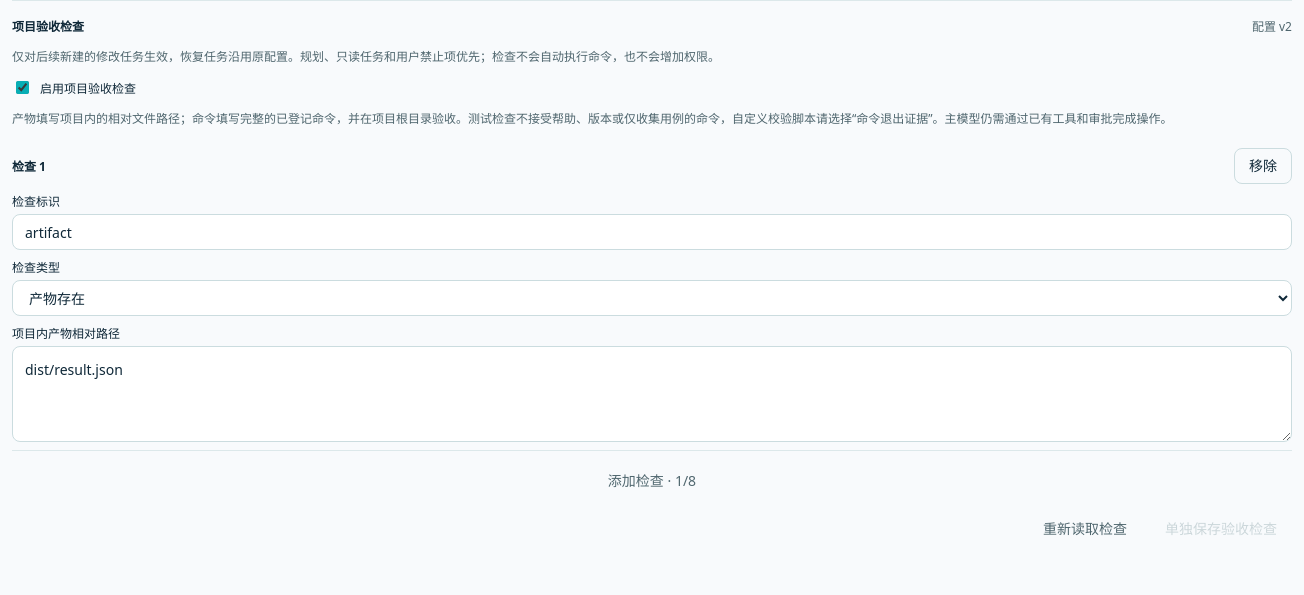
Test case: 项目验收检查 › 配置版本冲突保留草稿，必须显式重读后再编辑
The width and height of the screenshot is (1304, 595).
Step 1. Replace the text in the text box with test id "observer-check-scope" with "draft.json" → (652,394), box x1=12 y1=346 x2=1292 y2=442
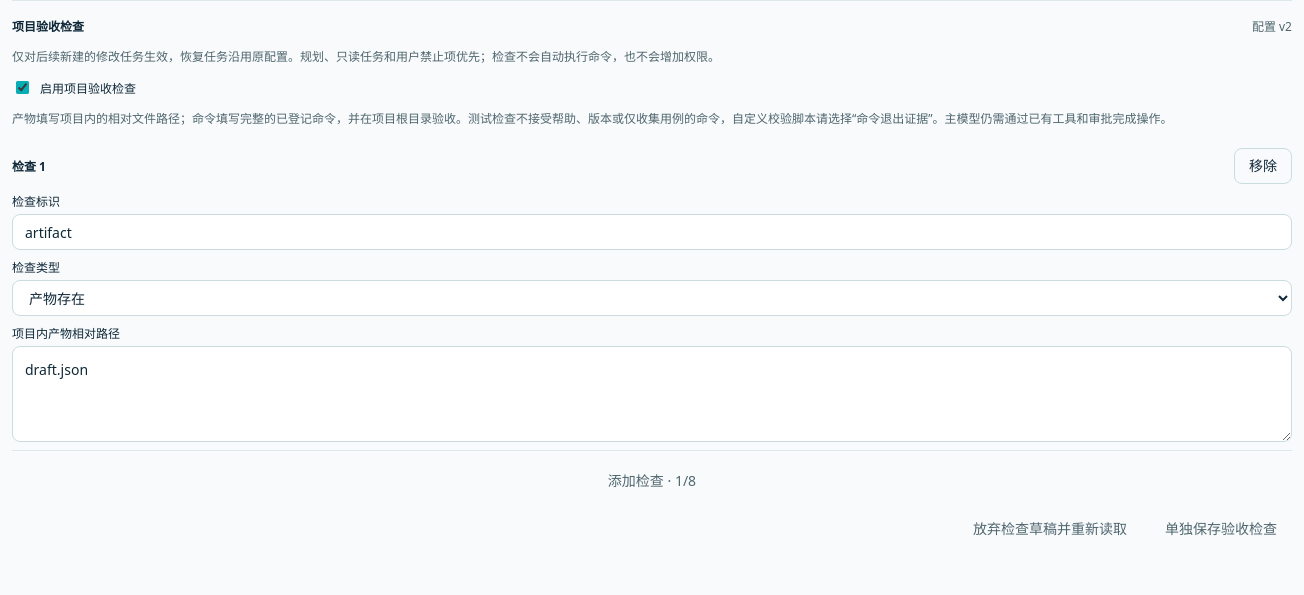
Step 2. Click the button with test id "observer-config-save" → (1221,529), box x1=1150 y1=511 x2=1292 y2=547
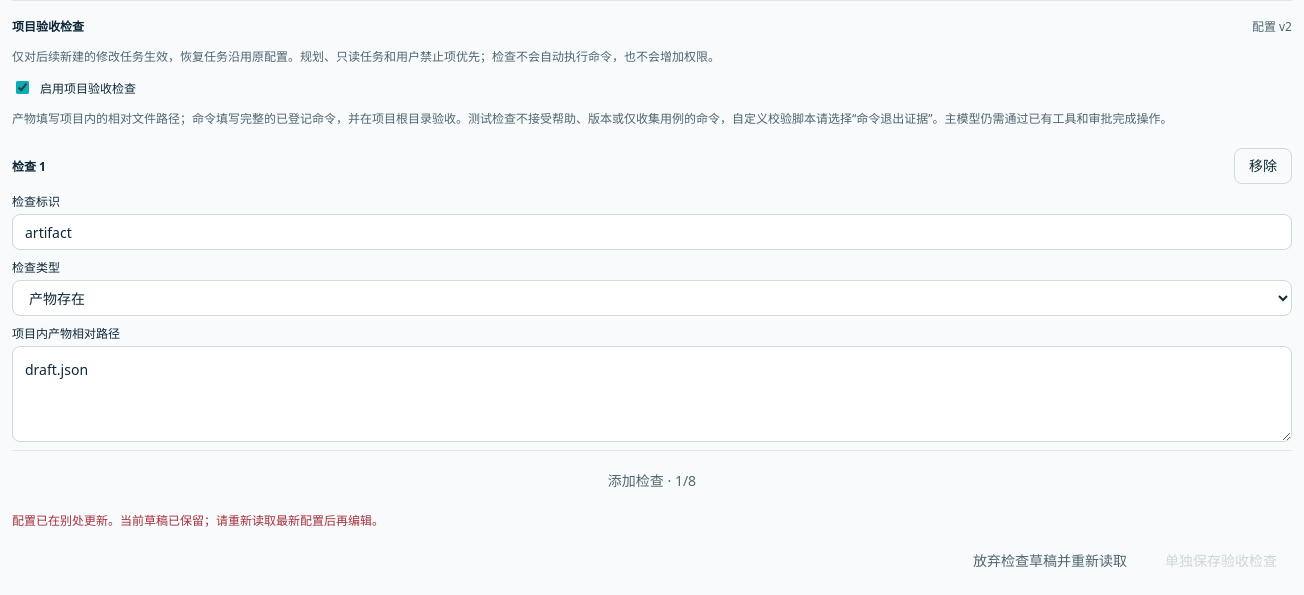
Now the text "草稿已保留" is shown, box x1=12 y1=512 x2=384 y2=529
Now the button with test id "observer-config-save" is disabled, box x1=1150 y1=543 x2=1292 y2=579
Step 3. Click the button with test id "observer-config-reload" → (1050,561), box x1=958 y1=543 x2=1142 y2=579
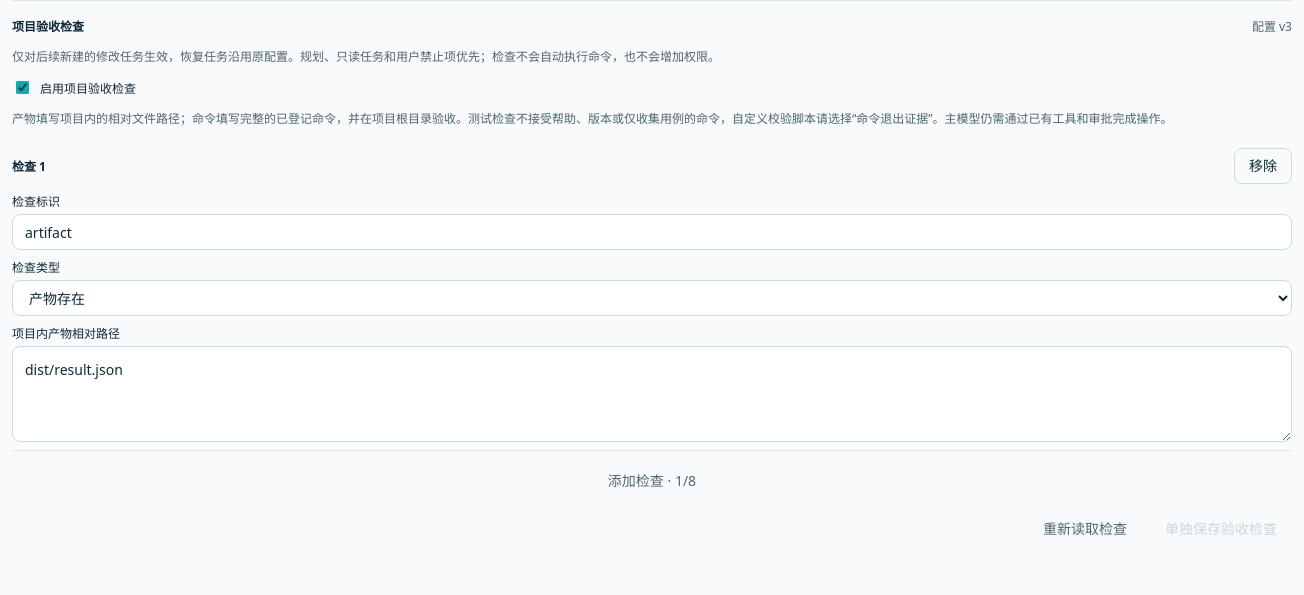
Now the text "配置 v3" is shown, box x1=1252 y1=17 x2=1292 y2=35
Now the text box with test id "observer-check-scope" holds "dist/result.json", box x1=12 y1=346 x2=1292 y2=442
